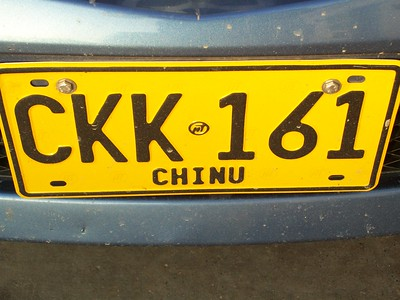placa_carro: (1, 59, 397, 195)
